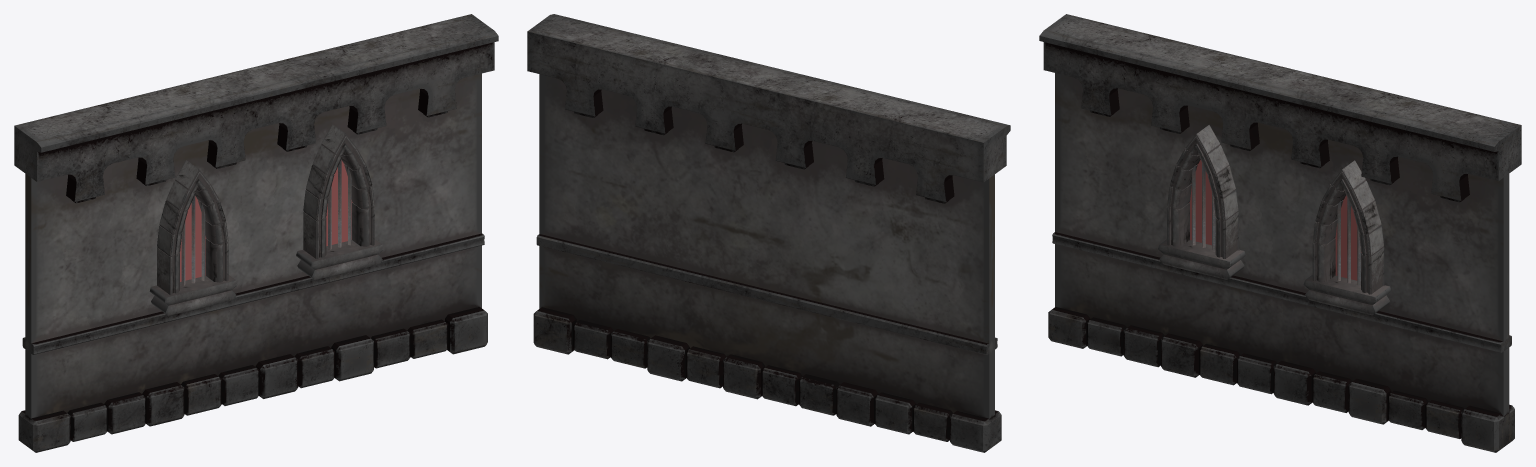
File: SM_WallWindows.fbx
The picture shows the model from 3 angles, left to right: view 1: azimuth 30°, elevation 25°; view 2: azimuth 150°, elevation 25°; view 3: azimuth 330°, elevation 25°; orthographic projection.
Visible parts, largest first — view 1: Cube, SM_StoneWindow.001, SM_StoneWindow.002; view 2: Cube; view 3: Cube, SM_StoneWindow.002, SM_StoneWindow.001.
Part boxes in pixels (box(x1,y1,x2,y2)): Cube: box(14, 14, 498, 452); SM_StoneWindow.001: box(149, 160, 237, 315); SM_StoneWindow.002: box(296, 124, 383, 279); Cube: box(527, 14, 1010, 452); Cube: box(1039, 14, 1521, 452); SM_StoneWindow.002: box(1303, 160, 1390, 315); SM_StoneWindow.001: box(1158, 125, 1245, 279).
Bounding box in the file's own units: 913 × 605 × 101.
